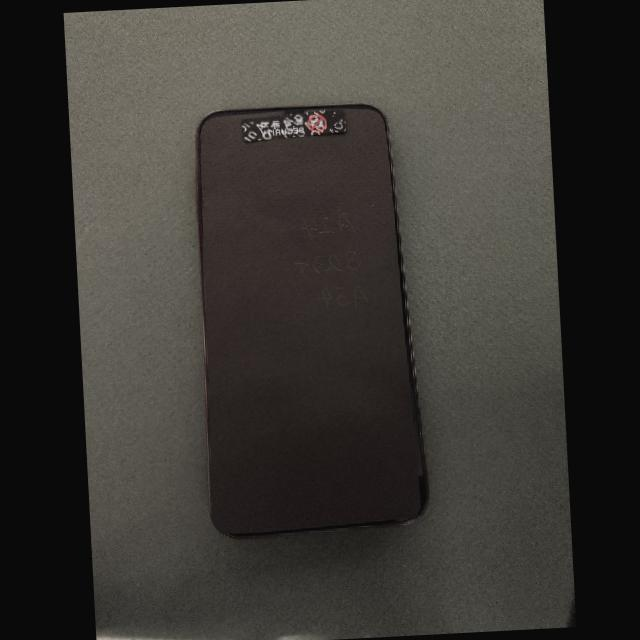phone: (197, 105, 428, 537)
sticker: (241, 106, 348, 143)
